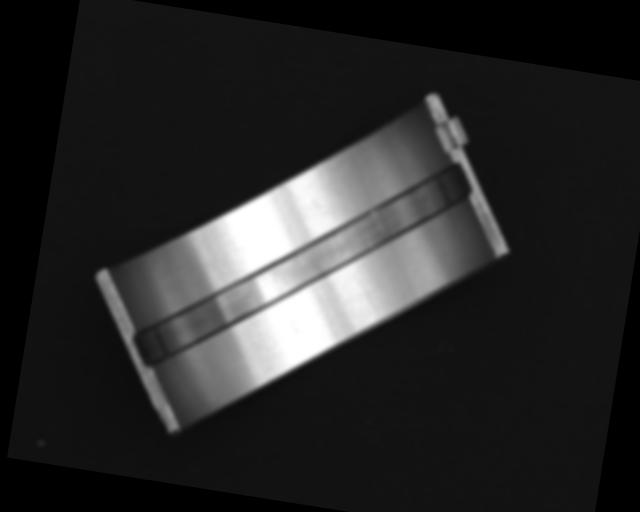gap: (128, 118, 474, 413)
nick: (353, 278, 381, 313)
